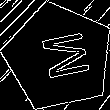M_W: (29, 29, 89, 85)
